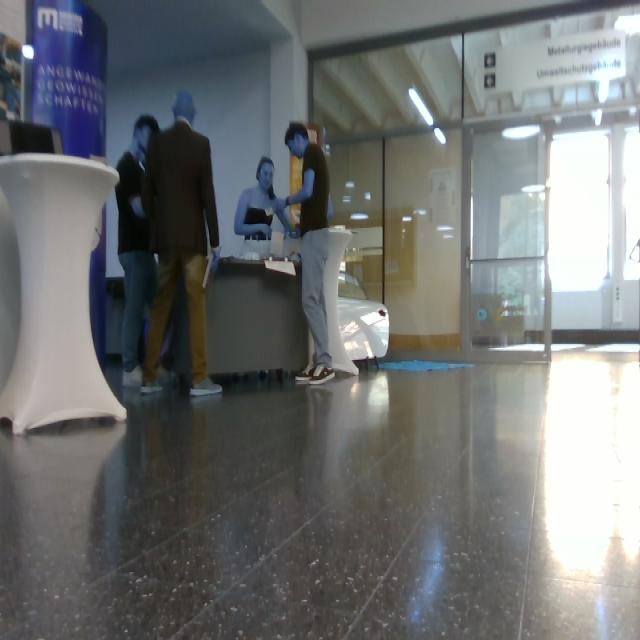desk: (208, 258, 309, 374), (161, 273, 192, 380), (107, 278, 125, 360)
door: (310, 1, 640, 369)
light bulb: (409, 88, 434, 126), (435, 128, 446, 145), (23, 45, 33, 60)
person: (143, 93, 221, 396), (276, 122, 334, 384), (116, 116, 160, 386), (235, 157, 294, 261)
pillar: (1, 1, 26, 156), (1, 189, 20, 389)
table: (1, 154, 127, 434), (321, 229, 363, 377)
tiled floor: (1, 354, 640, 640)
